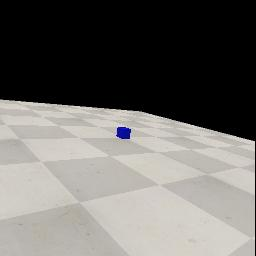box: (116, 127, 131, 139)
